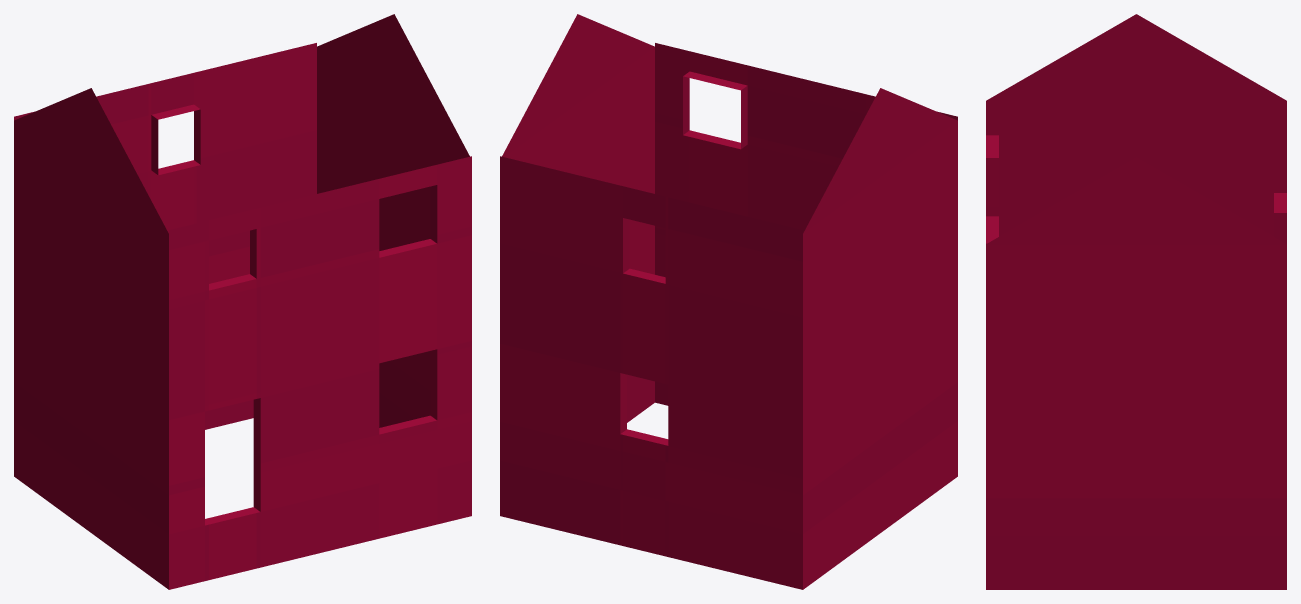
Rendered from SM_Bld_100_Masonry.glb.
3 views of the same model, side by side, from view 1: azimuth 30°, elevation 25°; view 2: azimuth 150°, elevation 25°; view 3: azimuth 270°, elevation 25° (orthographic). The views are drawn at different scales.
Parts seen in each view (by area): view 1: SM_Bld_100_Masonry; view 2: SM_Bld_100_Masonry; view 3: SM_Bld_100_Masonry.
Part boxes in pixels (box(x1,y1,x2,y2)): SM_Bld_100_Masonry: box(14, 14, 471, 589); SM_Bld_100_Masonry: box(500, 14, 957, 589); SM_Bld_100_Masonry: box(986, 14, 1286, 589).
Bounding box in the file's own units: 5.7 × 8.01 × 5.05.
